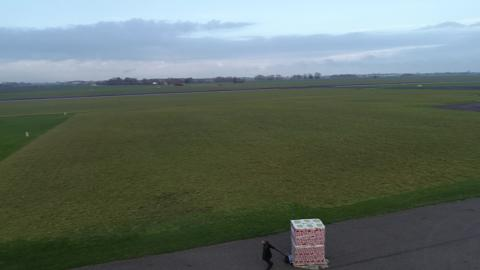RockwoolPallet: (289, 218, 327, 267)
